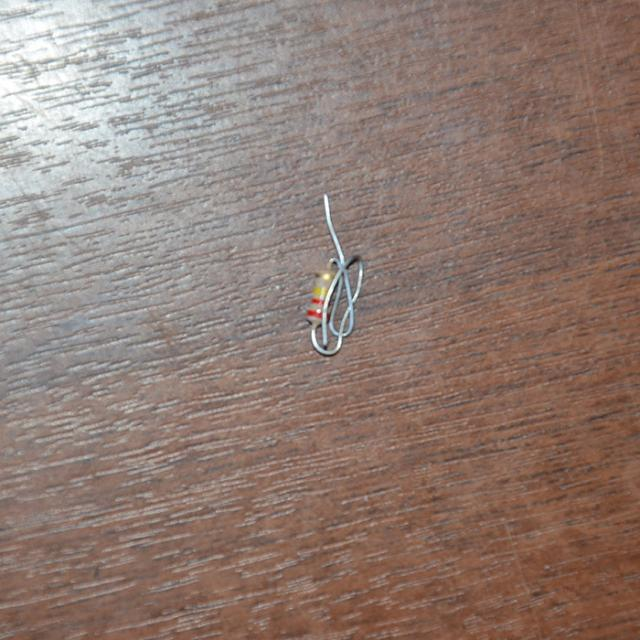gold: (315, 271, 335, 281)
red: (306, 309, 322, 317), (310, 298, 323, 303)
resistor: (298, 262, 343, 333)
yellow: (313, 287, 326, 294)
